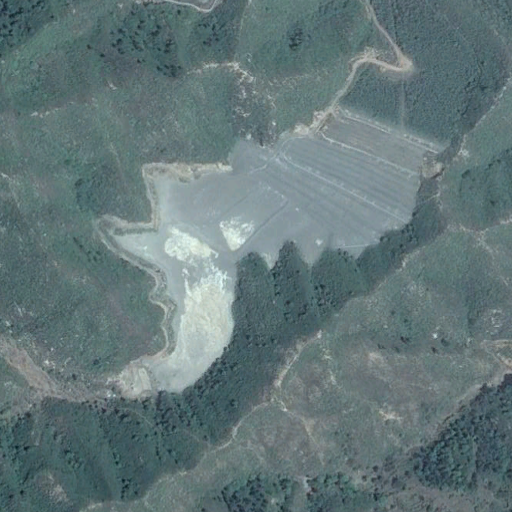tp: (105, 112, 441, 403)
